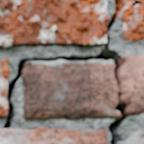brick: (0, 0, 108, 46), (0, 127, 106, 143), (121, 0, 143, 40), (0, 60, 8, 117), (126, 130, 143, 143)
broken_brick: (21, 62, 118, 119), (121, 54, 143, 116)
crack: (2, 0, 141, 143)
